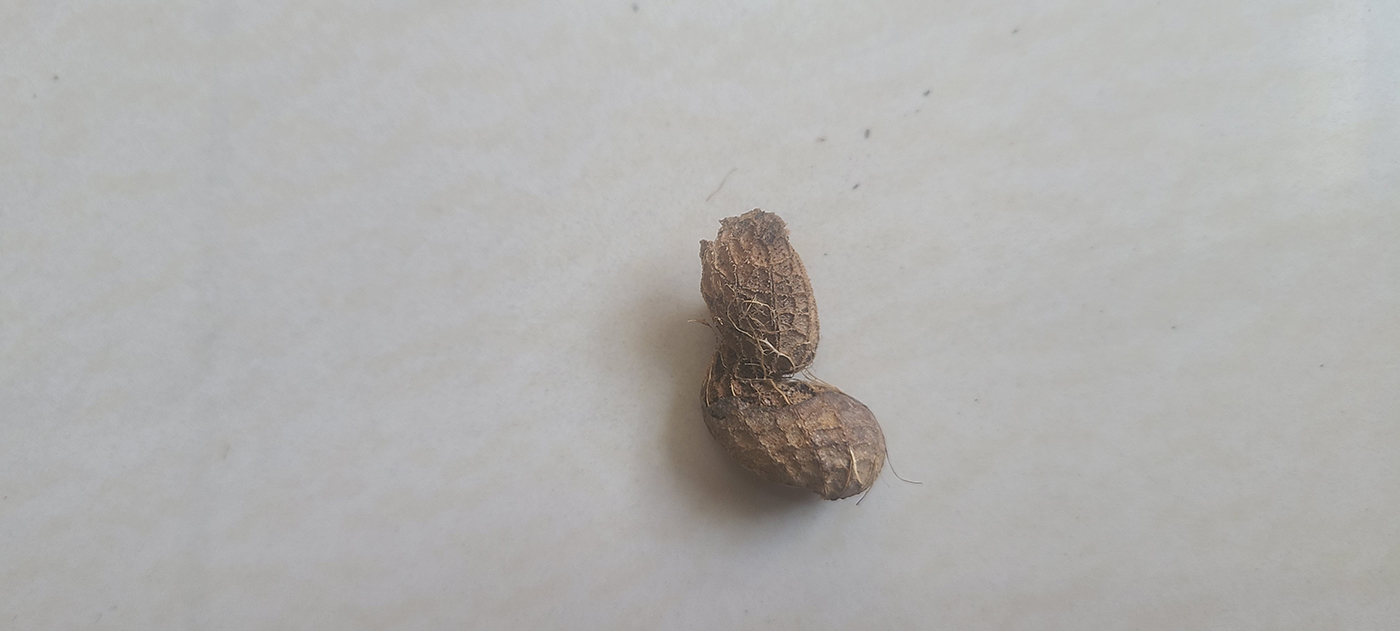l: (697, 209, 891, 494)
